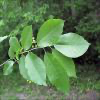Cherry leaf: (43, 51, 77, 98), (36, 18, 66, 49), (54, 33, 91, 58), (26, 52, 49, 90), (17, 53, 32, 87), (20, 24, 35, 52), (9, 34, 24, 55), (2, 59, 16, 77), (7, 47, 17, 61)
